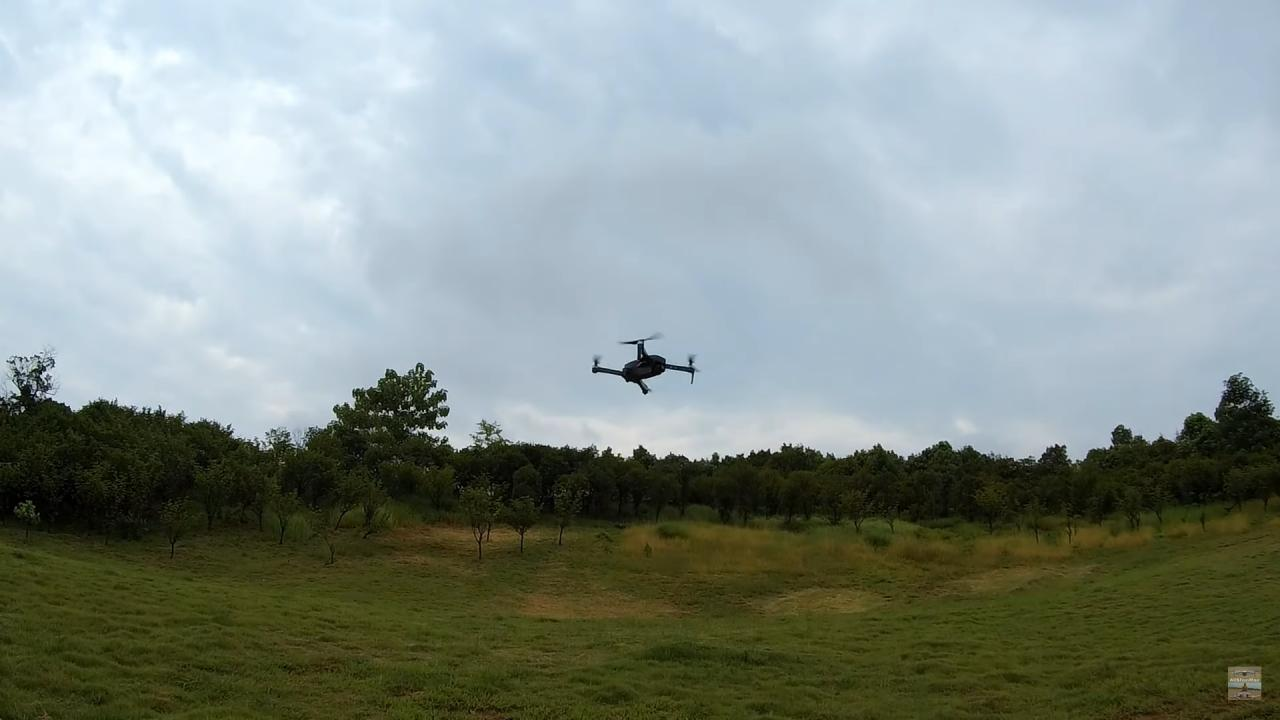Drone: (578, 323, 712, 408)
